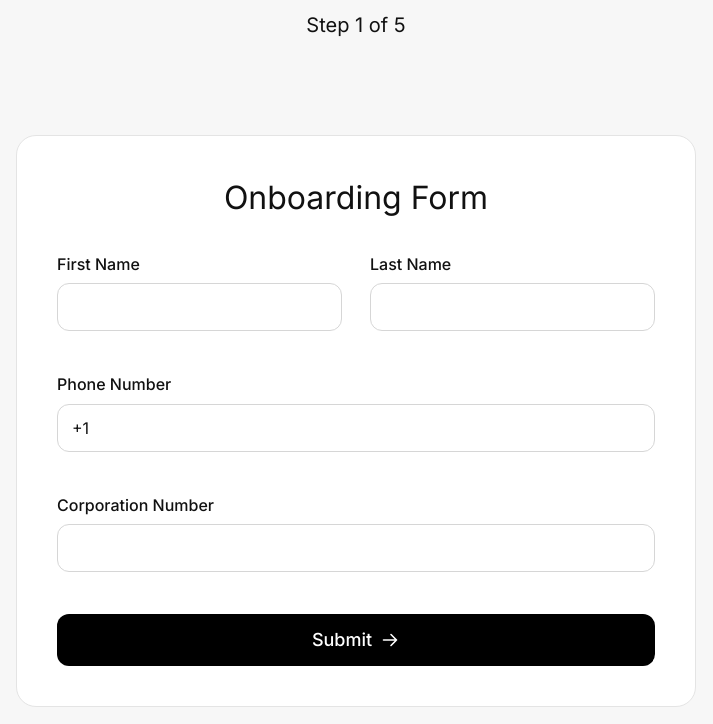
it: onboarding form › shows errors and focuses the first invalid field on submit
Type "Hello" into the field labelled "First Name" at [200, 307], box [57,283,342,331]
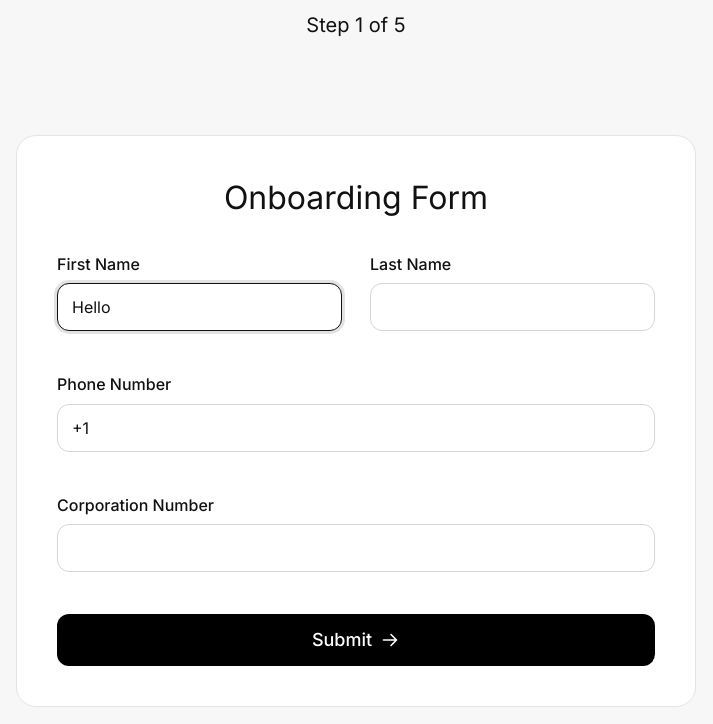
Type "World" into the field labelled "Last Name" at [512, 307], box [370,283,655,331]
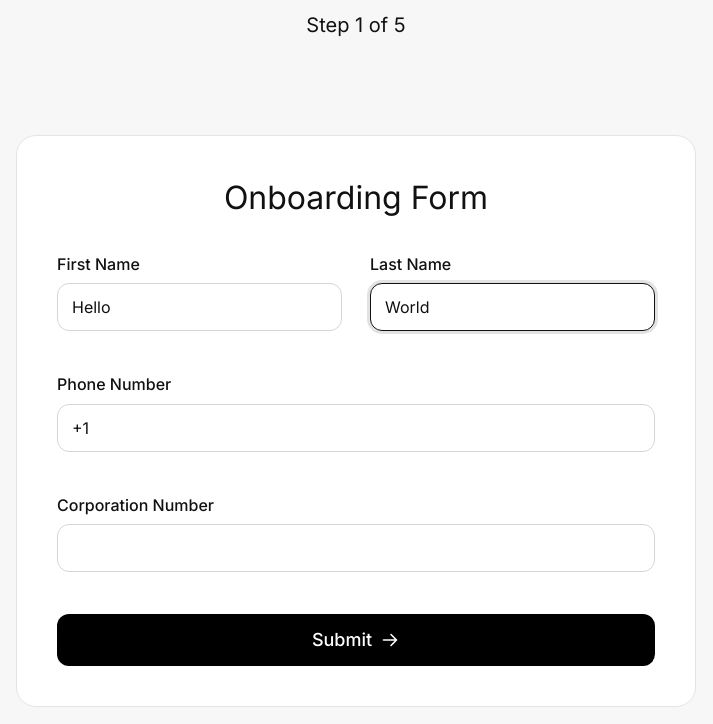
Type "306 277 6103" into the field labelled "Phone Number" at [356, 428], box [57,404,655,452]
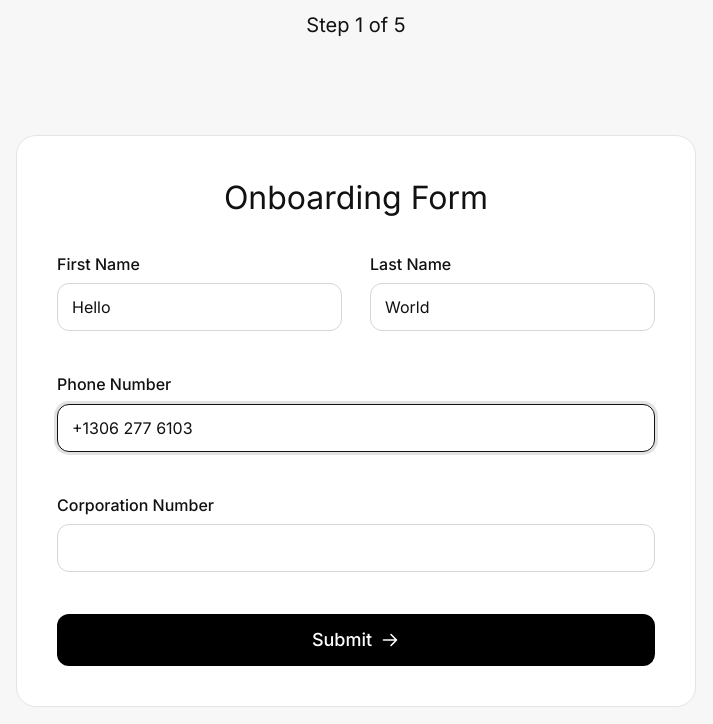
Type "12" into the field labelled "Corporation Number" at [356, 548], box [57,524,655,572]
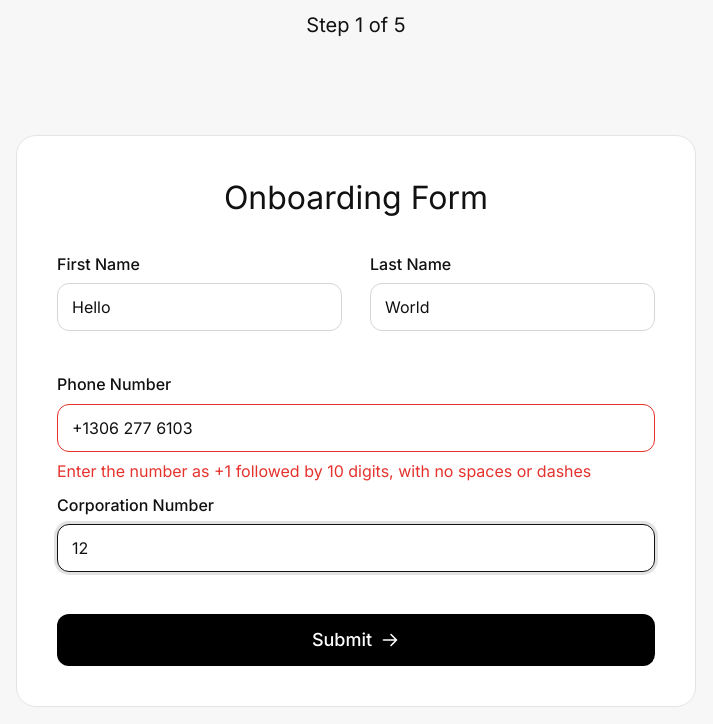
Click the button "Submit" at [356, 640], box [57,614,655,666]
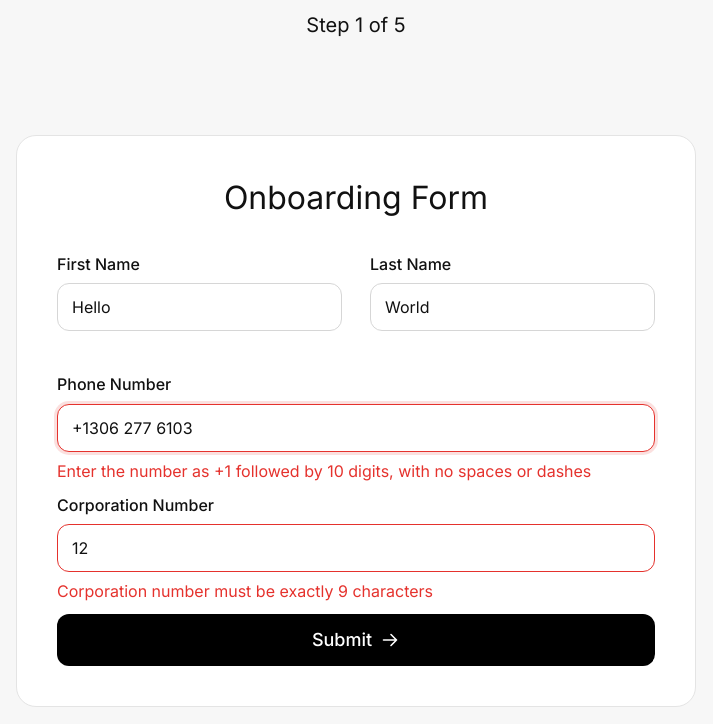
expect the text "Enter the number as +1 followed by 10 digits, with no spaces or dashes" is shown: met, box [57,460,655,482]
expect the text "Corporation number must be exactly 9 characters" is shown: met, box [57,581,433,601]
